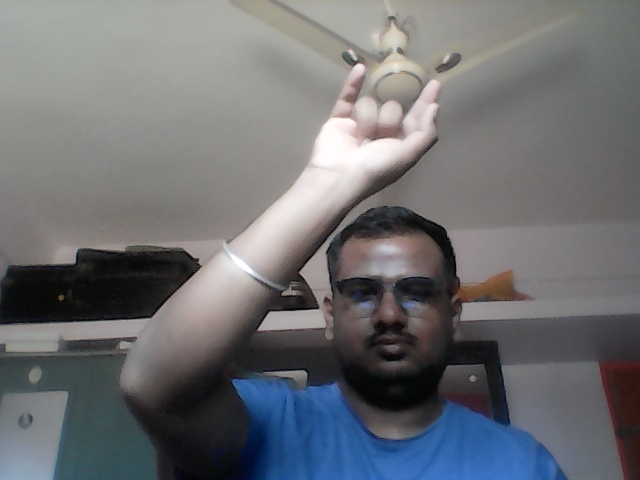I Love You: (308, 63, 445, 194)
